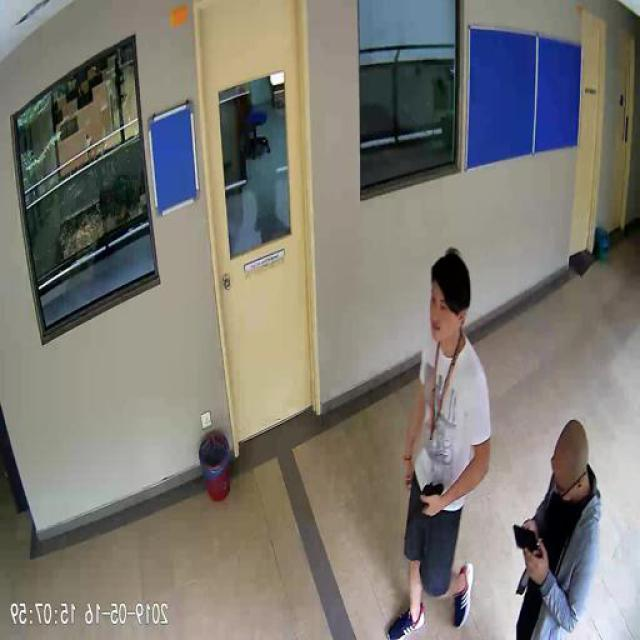Gun: (410, 480, 446, 525)
